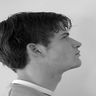ear: (21, 39, 48, 63)
